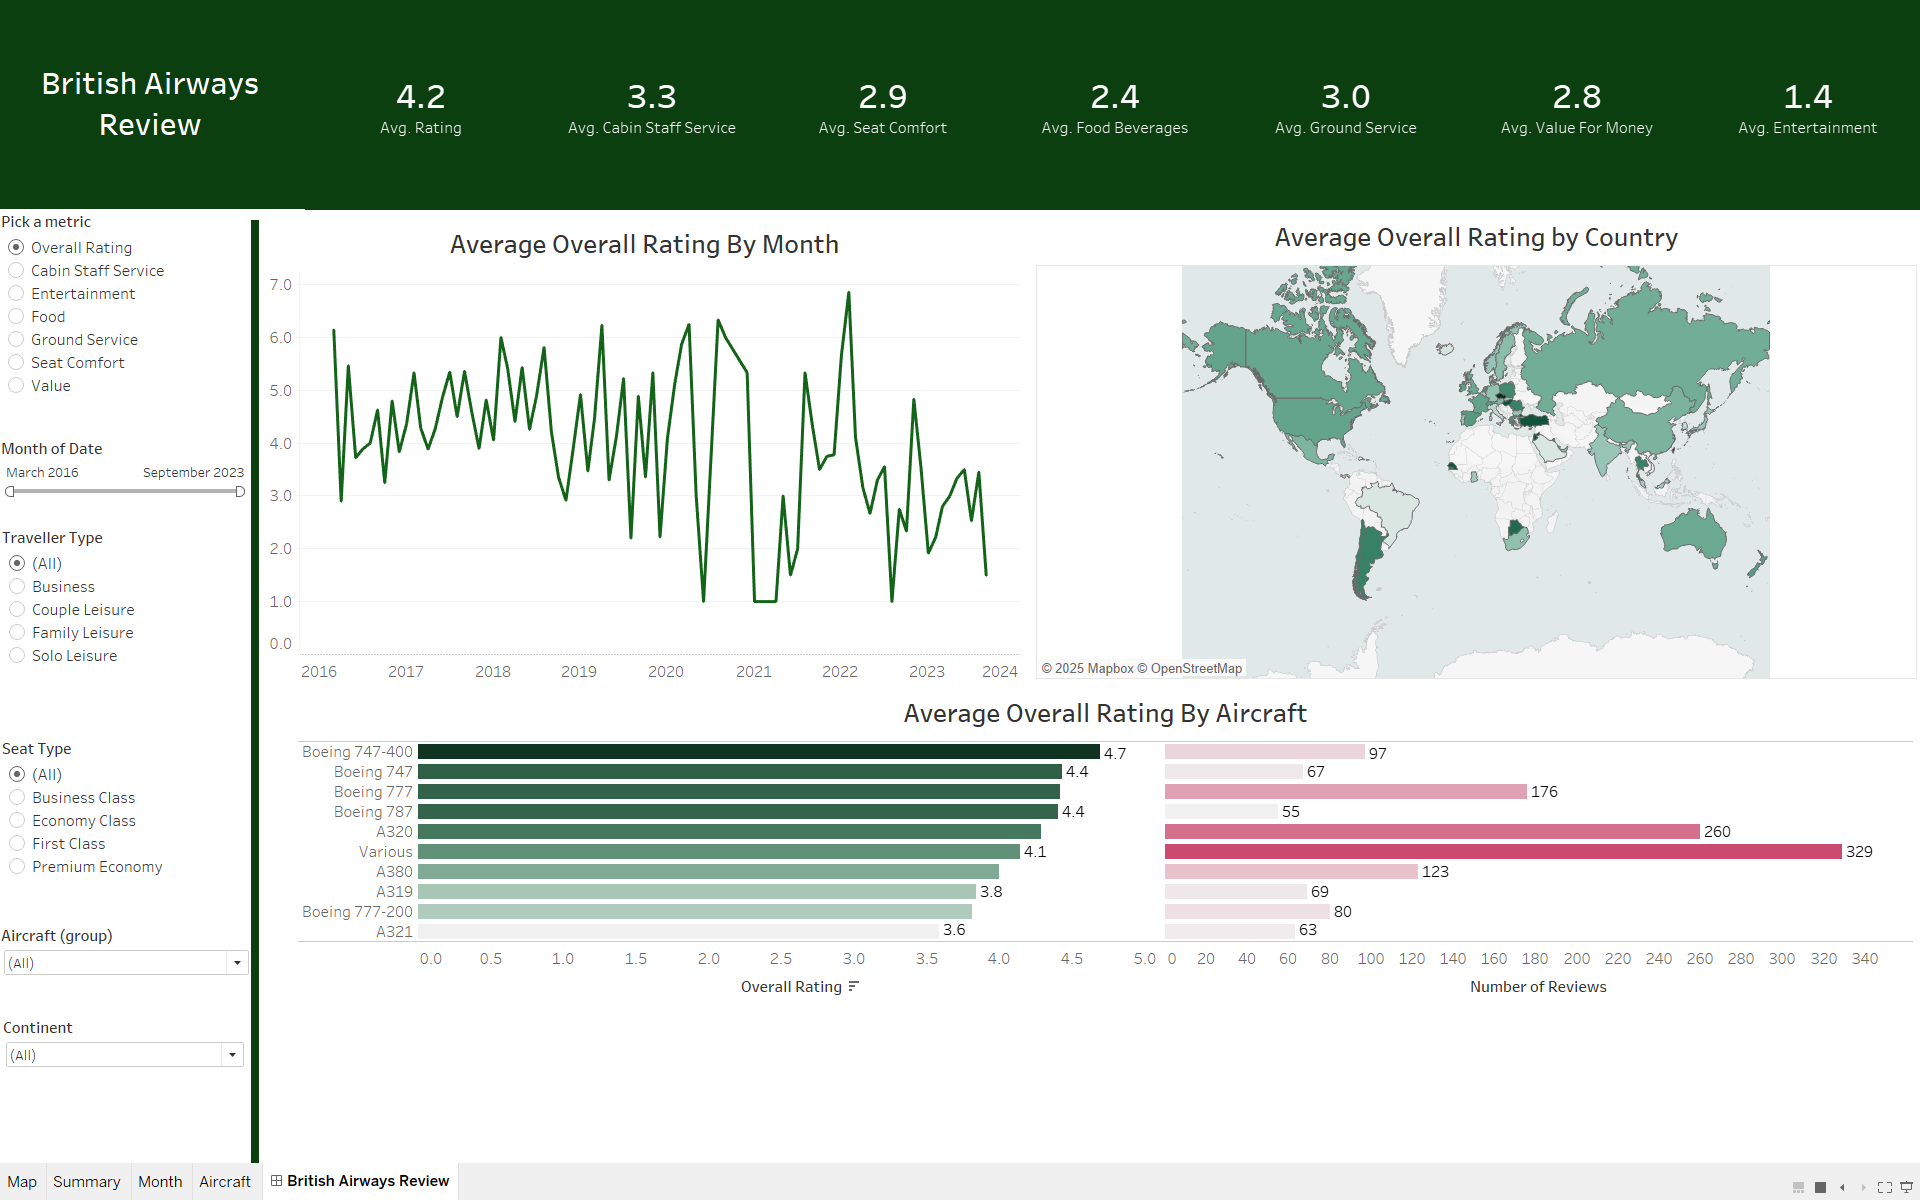

The dashboard page shown, as its layout file describes it:
{"tool":"tableau","page":{"name":"Dashboard 1","canvas":[1000,1000],"units":"permille","ordinal":0},"visuals":[{"type":"worksheet","title":"Summary","mark":"Automatic","box":[158.7,0,843.1,180.4]},{"type":"parameter","param":"[Parameters].[Parameter 1]","box":[0.6,181.4,109.8,183.3]},{"type":"worksheet","title":"Map","mark":"Automatic","box":[539.5,185.3,458.7,398.6]},{"type":"worksheet","title":"Month","mark":"Automatic","rows":["Calculation_1714745579280400384"],"cols":["date"],"box":[140,191.1,391.1,397.7]},{"type":"filter","title":"Map","param":"[federated.1lnny2v05nc3gx19louvp1bdabin].[tmn:date:qk]","box":[0.6,376.3,130.4,63.1]},{"type":"filter","title":"Map","param":"[federated.1lnny2v05nc3gx19louvp1bdabin].[none:traveller_type:nk]","box":[1.2,453,129.8,138.7]},{"type":"filter","title":"Map","param":"[federated.1lnny2v05nc3gx19louvp1bdabin].[none:seat_type:nk]","box":[1.2,634.3,130.4,138.7]},{"type":"filter","title":"Map","param":"[federated.1lnny2v05nc3gx19louvp1bdabin].[Aircraft (group)]","box":[0.6,795.3,131,51.4]},{"type":"filter","title":"Map","param":"[federated.1lnny2v05nc3gx19louvp1bdabin].[none:Continent:nk]","box":[1.8,874.9,127.3,51.4]}]}

Visuals, with their boxes on the dashboard's canvas, which has no fixed pixel size, in thousandths of its width and height (x1, y1, x2, y2). These are canvas units, not pixel positions in the 1920x1200 screenshot, which may show the page scaled, cropped or inside an application window:
"Summary" worksheet: BBox(159, 0, 1002, 180)
parameter: BBox(1, 181, 110, 365)
"Map" worksheet: BBox(540, 185, 998, 584)
"Month" worksheet: BBox(140, 191, 531, 589)
"Map" filter: BBox(1, 376, 131, 439)
"Map" filter: BBox(1, 453, 131, 592)
"Map" filter: BBox(1, 634, 132, 773)
"Map" filter: BBox(1, 795, 132, 847)
"Map" filter: BBox(2, 875, 129, 926)
